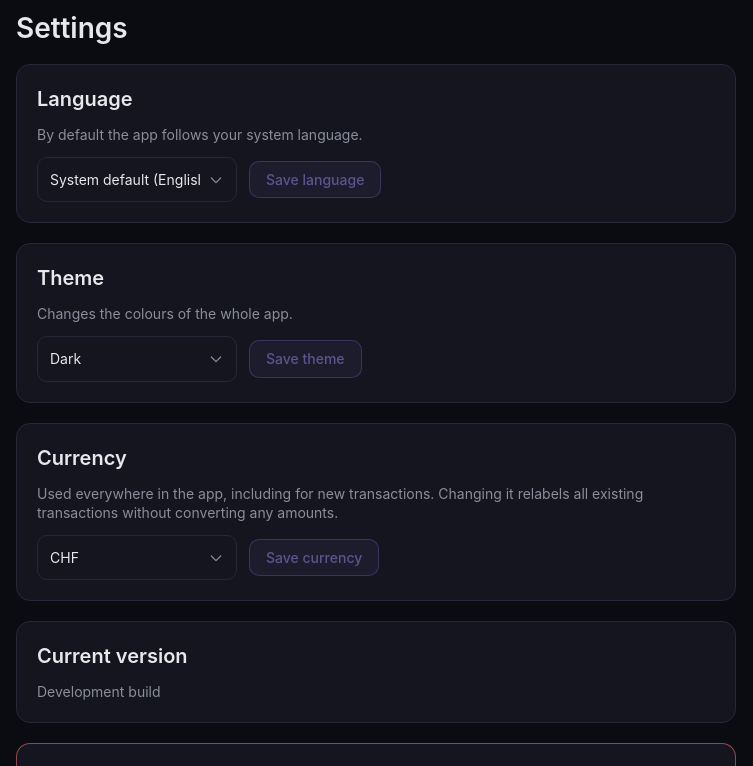
Test: SettingsPage language › saving a language sends the locale and reloads the settings
The image size is (753, 766).
Expected: the button "Save language" is disabled, [249,161,381,198]
Click the button "System default (English)".
click(137, 180)  # box [37,157,237,202]
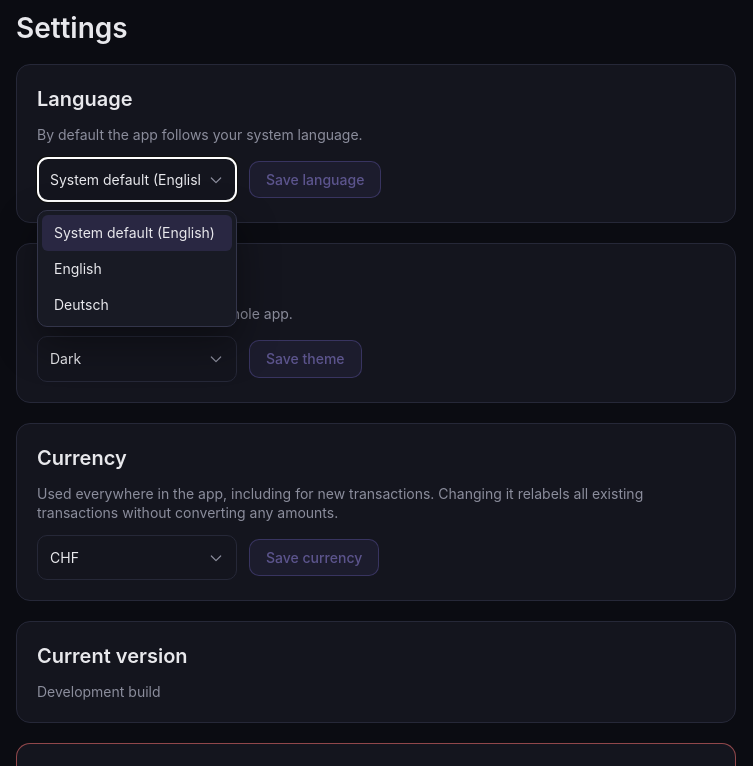
Click the option "Deutsch".
click(137, 304)  # box [42,287,232,322]
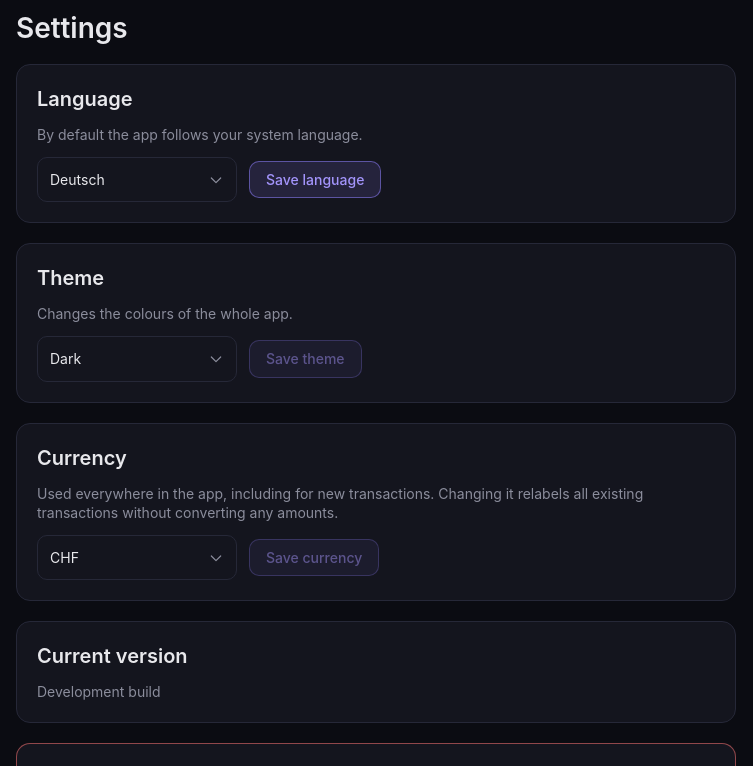
Click the button "Save language".
click(315, 180)  # box [249,161,381,198]
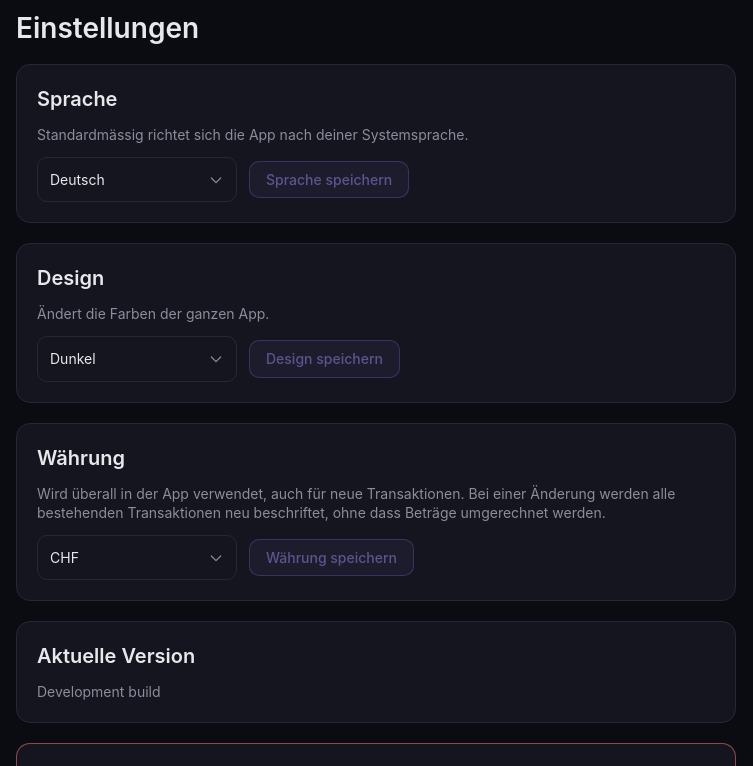
Expected: the button "Sprache speichern" is disabled, [249,161,409,198]
